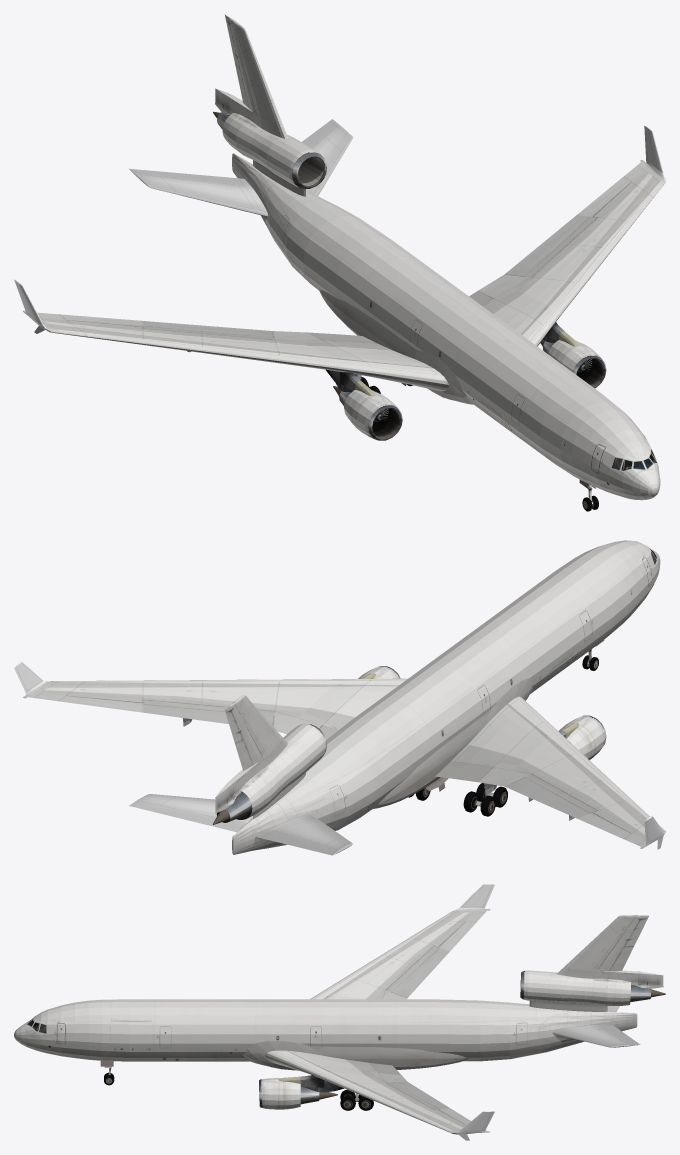
3 views of the same model, one above another, from view 1: azimuth 30°, elevation 25°; view 2: azimuth 150°, elevation 25°; view 3: azimuth 270°, elevation 25° (orthographic). The views are drawn at different scales.
Parts seen in each view (by area): view 1: vehicle; view 2: vehicle; view 3: vehicle.
Boxes of the visible parts, x1,y1,x2,y2 form: vehicle: [14, 15, 665, 511]; vehicle: [14, 540, 665, 855]; vehicle: [14, 884, 665, 1140].
Size of the model in its own units: 50.55 by 17.54 by 61.2.
Materials: 1 (1 with a texture image).
